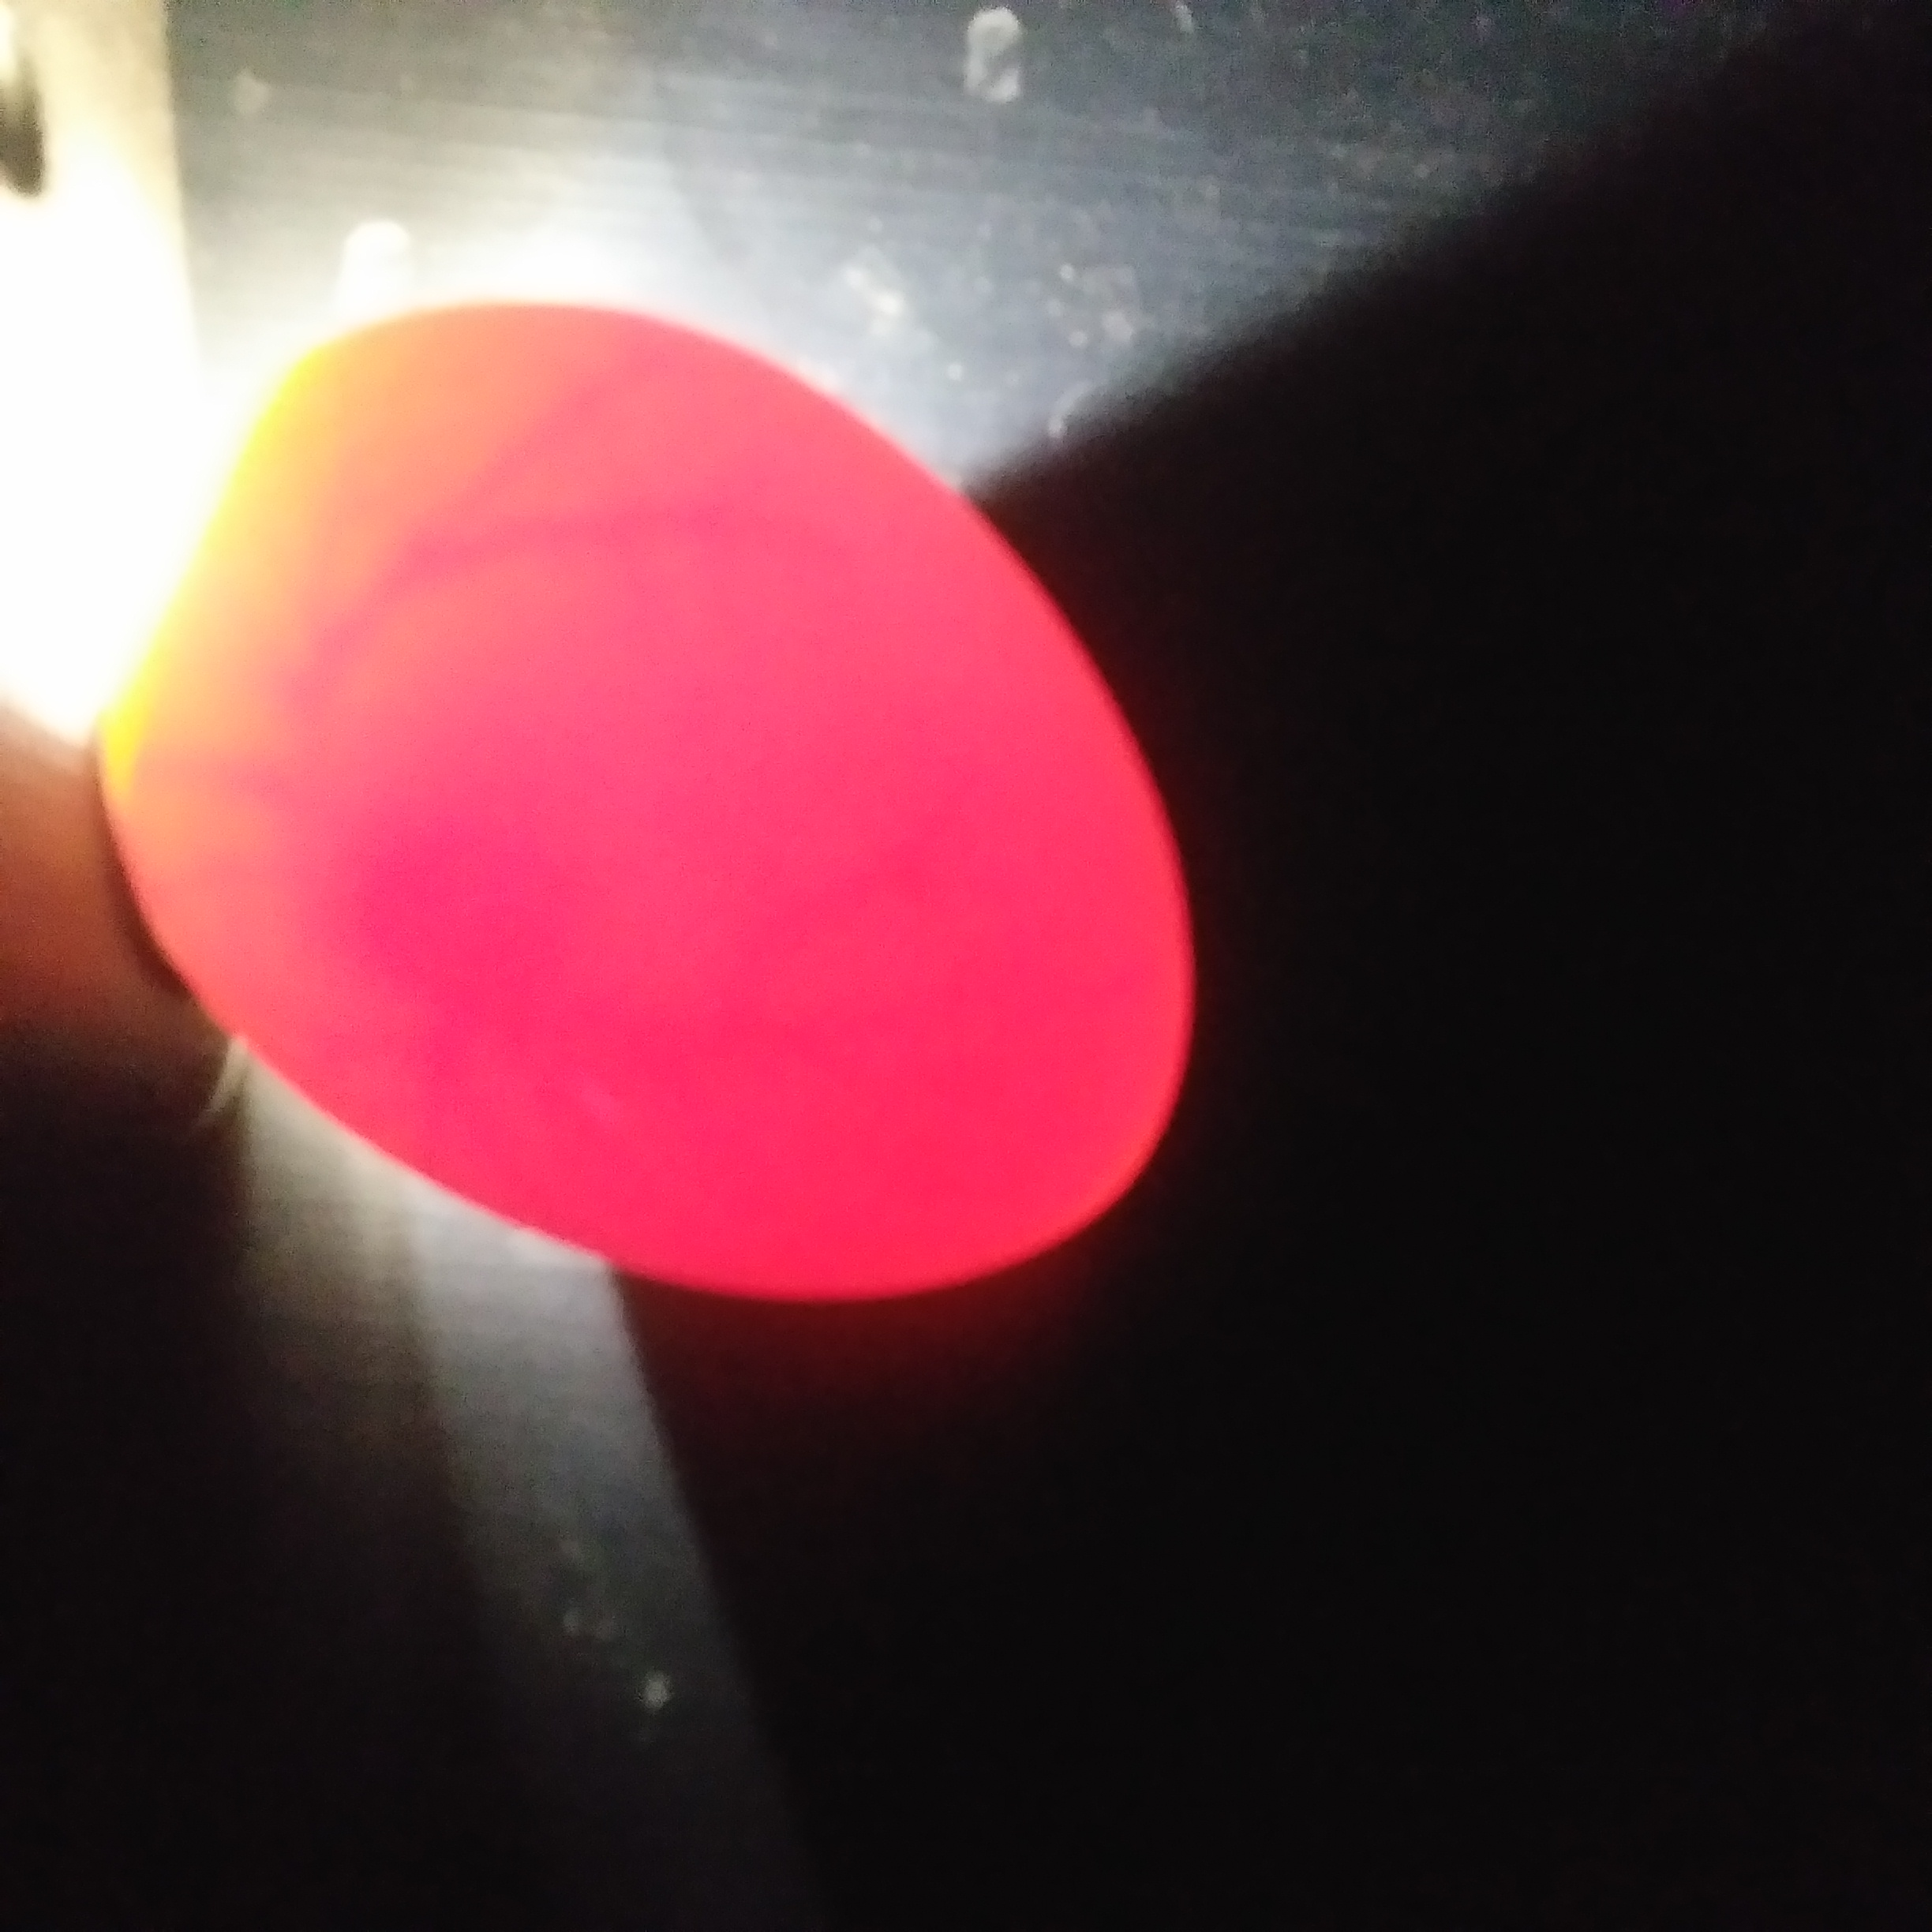bloodcell: (320, 902, 977, 1154), (345, 382, 757, 671)
